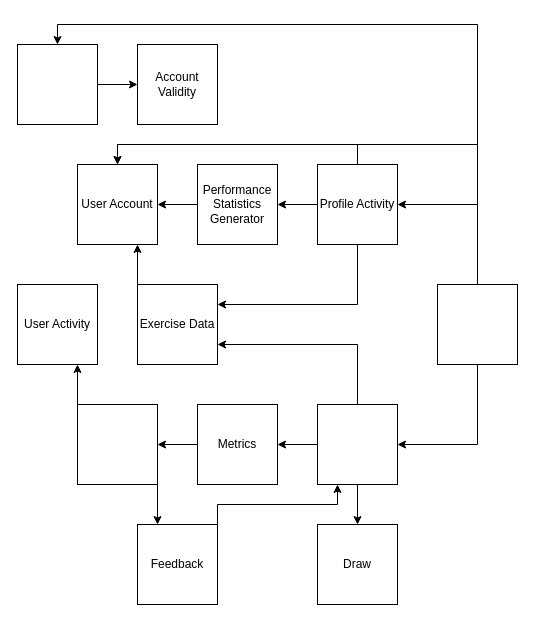
The diagram is 535 pixels wide and 622 high, and some of its shapes have lost their labels. Each missing label, with the centre of its shape:
"Account Creation" goes at point 57,84.
"Analysis Control Flow" goes at point 357,444.
"Analyze" goes at point 117,444.
"User Interface" goes at point 477,324.
